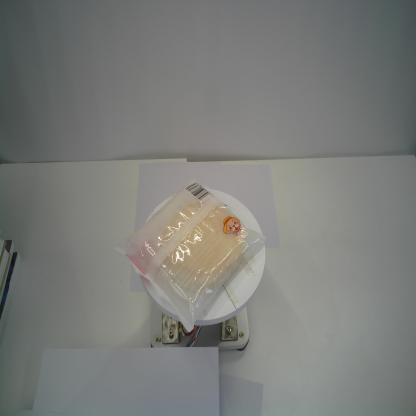Dessert: (115, 180, 266, 334)
